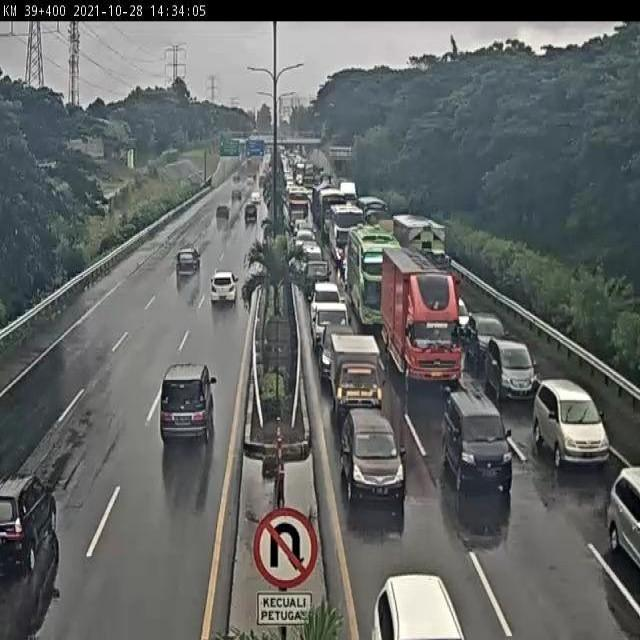bus-l-: (348, 228, 401, 329), (331, 204, 371, 260)
car: (529, 364, 604, 461), (440, 394, 514, 489), (335, 406, 403, 502), (0, 476, 59, 571), (322, 328, 384, 405), (159, 361, 214, 440), (607, 466, 640, 574), (488, 339, 533, 401), (309, 296, 350, 352), (466, 313, 508, 360), (298, 258, 330, 298), (447, 293, 470, 335), (296, 238, 320, 266), (312, 278, 340, 302)
truck-l-: (380, 247, 459, 393), (392, 212, 456, 284)
